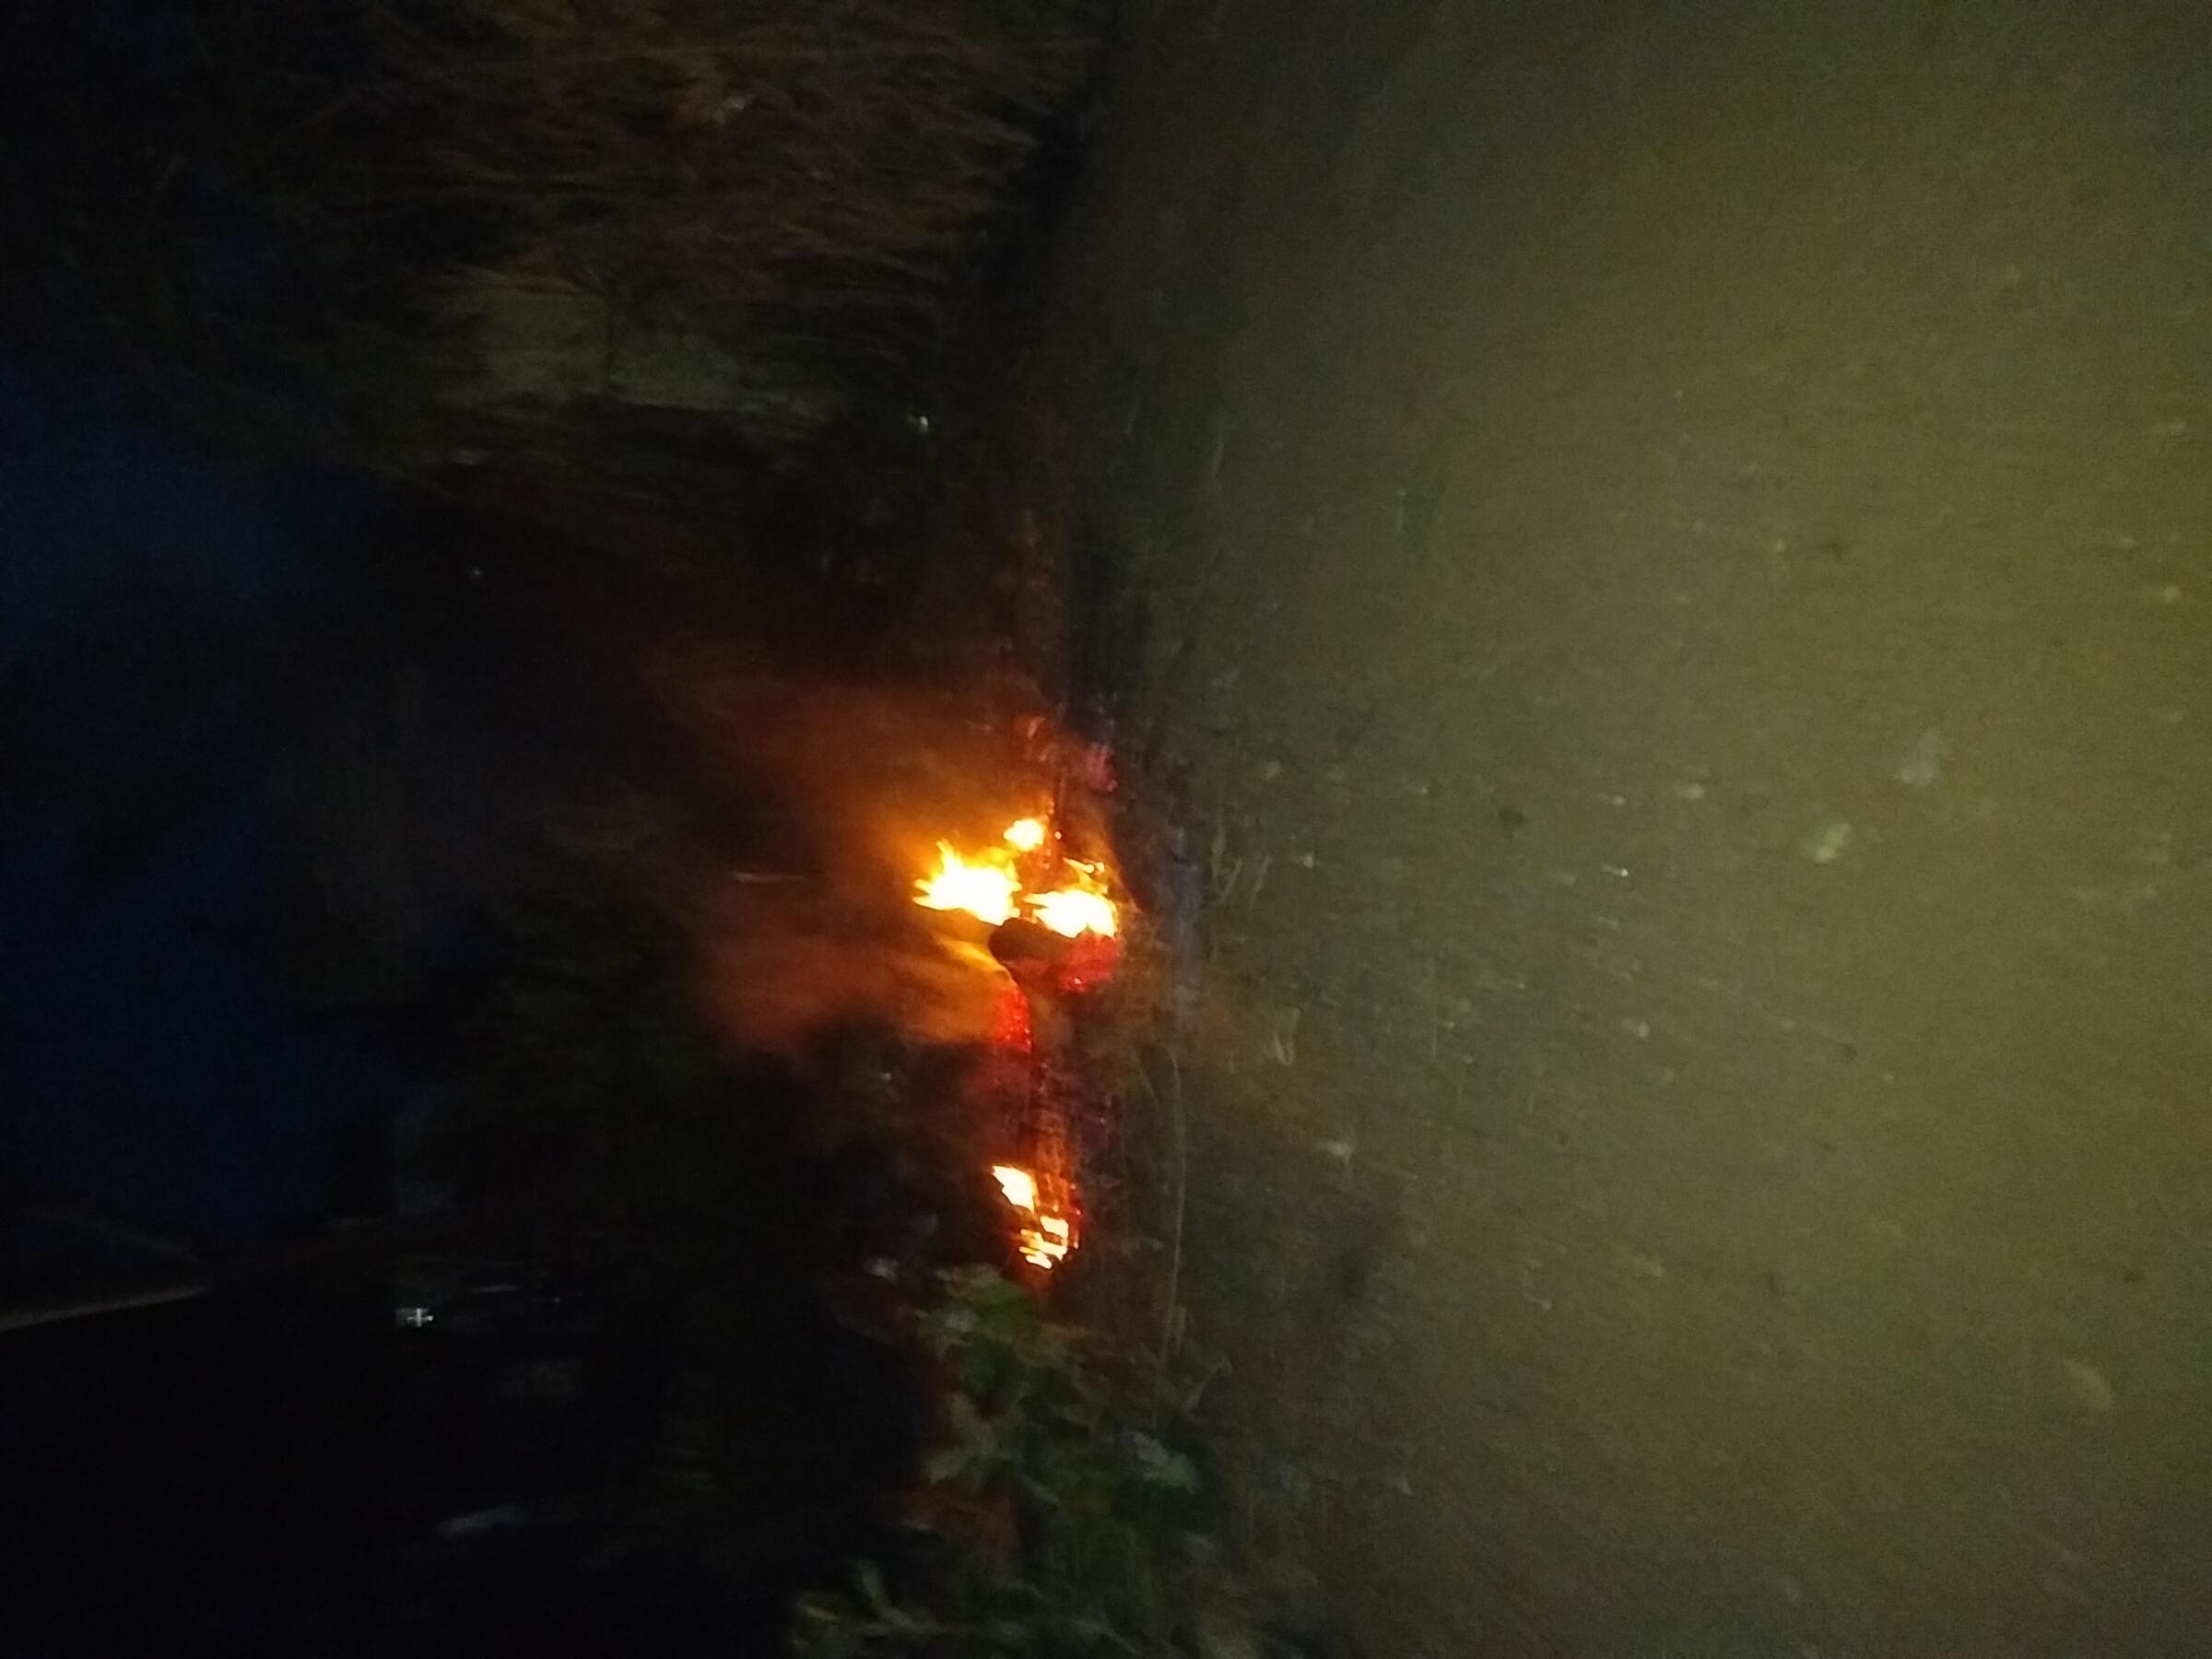Fire: (460, 681, 1247, 842)
Smoke: (737, 505, 1381, 667)
